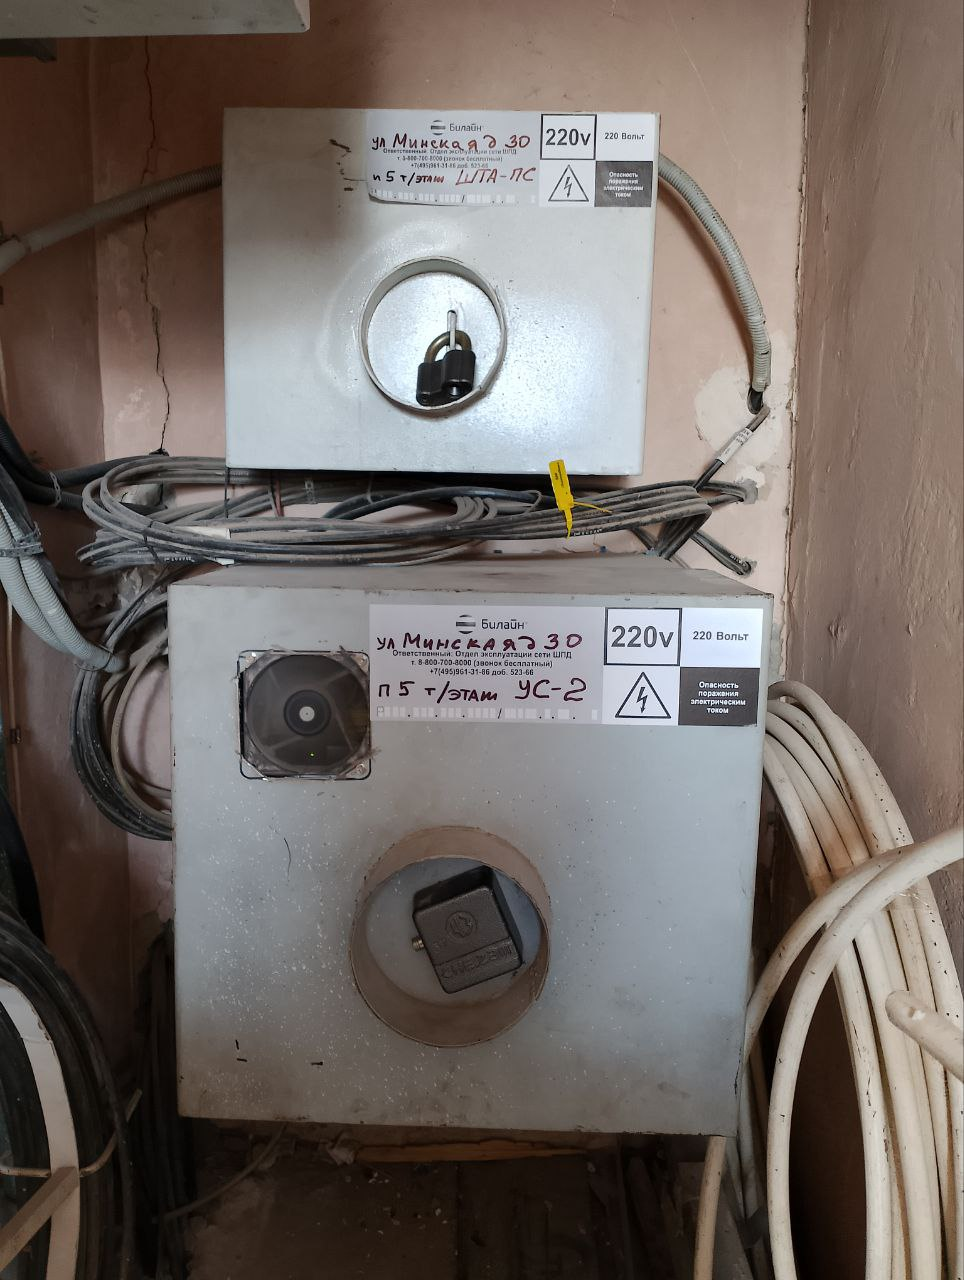shta-3: (221, 109, 661, 473)
shta-9: (156, 551, 782, 1143)
